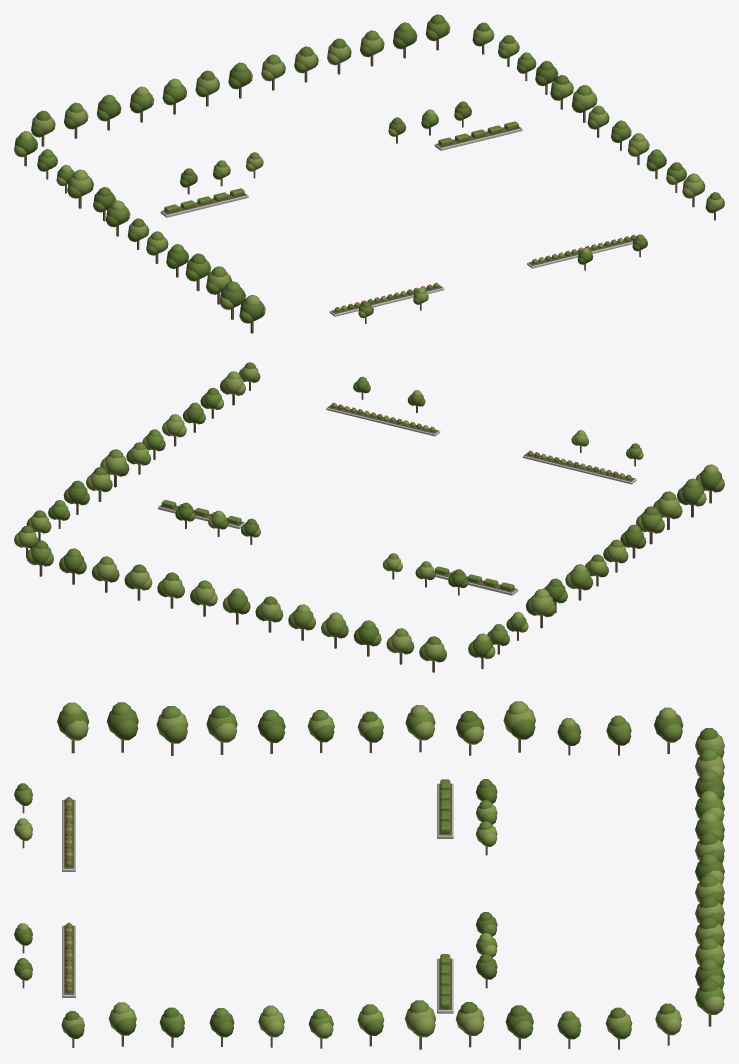
Rendered from trees.glb.
3 views of the same model, one above another, from view 1: azimuth 30°, elevation 25°; view 2: azimuth 150°, elevation 25°; view 3: azimuth 270°, elevation 25° (orthographic). The views are drawn at different scales.
Visible parts, largest first — view 1: Tree crown.197, Tree crown.196, VIP clipped hedge.010, Tree trunk.049, VIP garden edge.002; view 2: Tree crown.197, Tree crown.196, VIP clipped hedge.010, Tree trunk.049, VIP garden edge.002; view 3: Tree crown.197, Tree crown.196, VIP clipped hedge.010, Tree trunk.049, VIP garden edge.002.
Part boxes in pixels (left/top/right/bottom): Tree crown.197: left=14, top=22, right=723, bottom=318; Tree crown.196: left=14, top=14, right=724, bottom=321; VIP clipped hedge.010: left=33, top=19, right=685, bottom=323; Tree trunk.049: left=24, top=39, right=715, bottom=333; VIP garden edge.002: left=160, top=126, right=633, bottom=316; Tree crown.197: left=14, top=367, right=718, bottom=661; Tree crown.196: left=21, top=362, right=722, bottom=662; VIP clipped hedge.010: left=26, top=376, right=724, bottom=660; Tree trunk.049: left=26, top=382, right=711, bottom=672; VIP garden edge.002: left=158, top=404, right=636, bottom=595; Tree crown.197: left=14, top=701, right=724, bottom=1038; Tree crown.196: left=14, top=705, right=724, bottom=1039; VIP clipped hedge.010: left=14, top=702, right=724, bottom=1039; Tree trunk.049: left=22, top=739, right=711, bottom=1049; VIP garden edge.002: left=62, top=783, right=453, bottom=1013.
Bounding box in the file's own units: 89.63 × 6.69 × 85.97.
